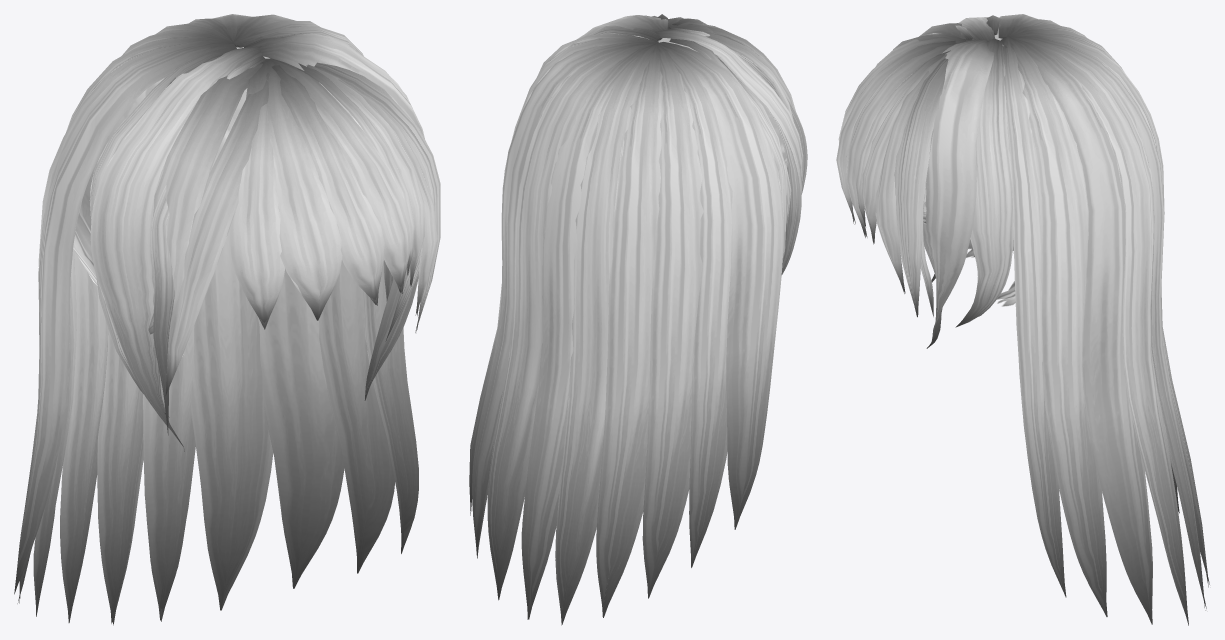
The model's file is hair_long.glb.
3 renders of one model, left to right at view 1: azimuth 30°, elevation 25°; view 2: azimuth 150°, elevation 25°; view 3: azimuth 270°, elevation 25°, orthographic. The views are drawn at different scales.
Visible parts, largest first — view 1: Hair001, HairBack; view 2: Hair001, HairBack; view 3: Hair001, HairBack.
Boxes of the visible parts, x1,y1,x2,y2 form: Hair001: (14,14,440,625); HairBack: (73,47,365,356); Hair001: (469,14,807,625); HairBack: (634,35,787,167); Hair001: (836,14,1209,625); HairBack: (896,33,1015,306).
Size of the model in its own units: 0.3001 by 0.5264 by 0.3183.
Materials: 2 (2 with a texture image).
